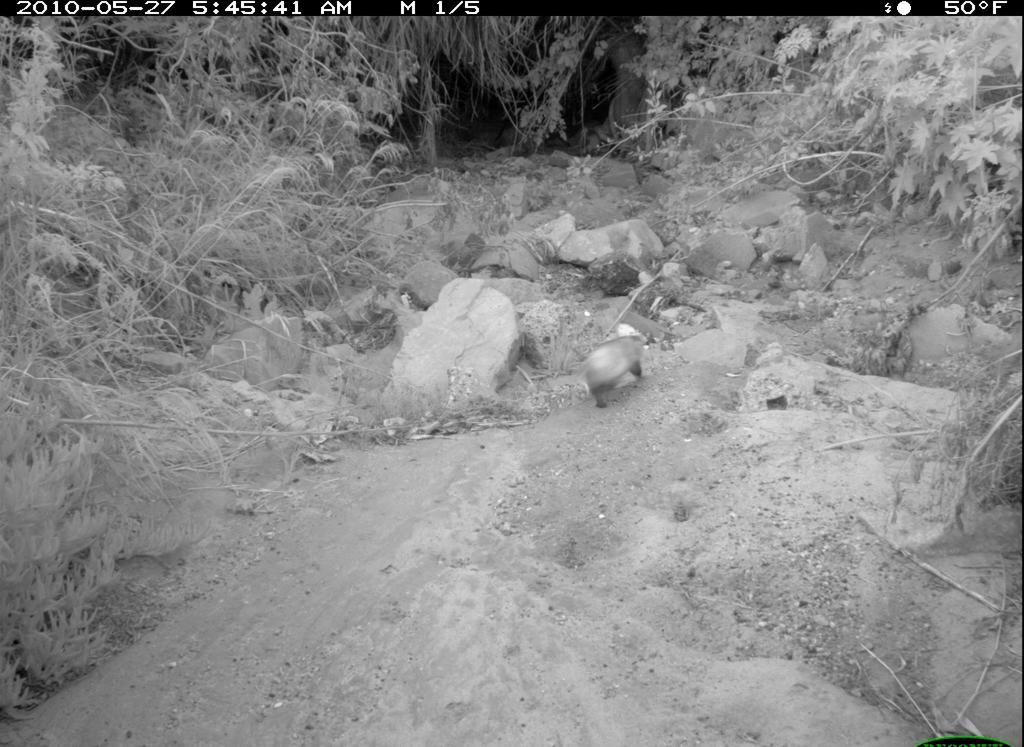opossum: (550, 314, 684, 417)
